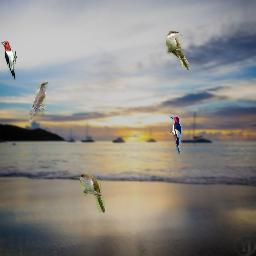Cuckoo: (74, 173, 105, 213), (166, 30, 189, 70), (29, 82, 48, 122)
Woodpecker: (1, 41, 17, 81), (169, 114, 183, 154)
